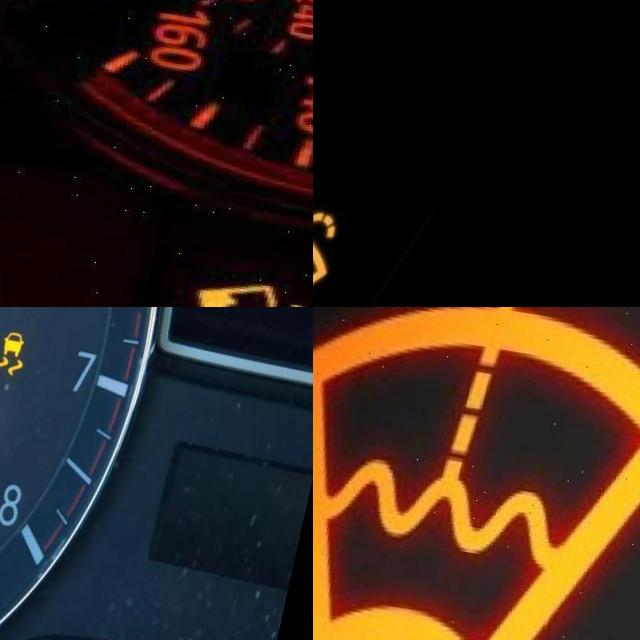Washer Fluid: (313, 307, 640, 640), (313, 181, 358, 307), (197, 263, 313, 307)
